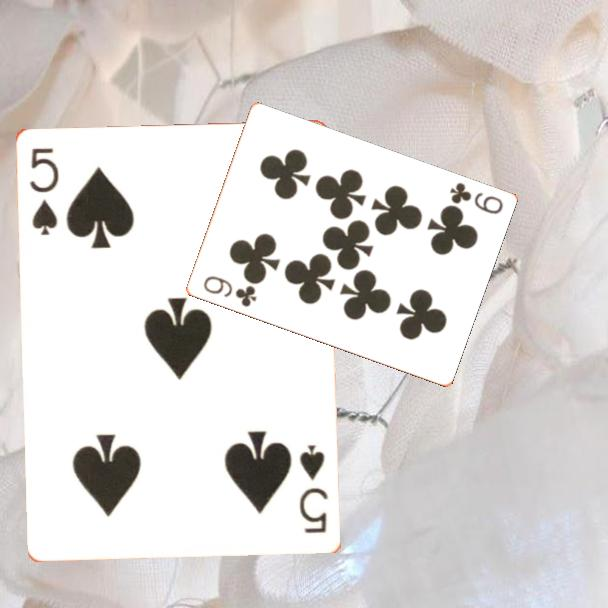c09: (199, 272, 259, 310), (446, 179, 506, 217)
s05: (296, 441, 332, 537), (26, 144, 62, 238)
